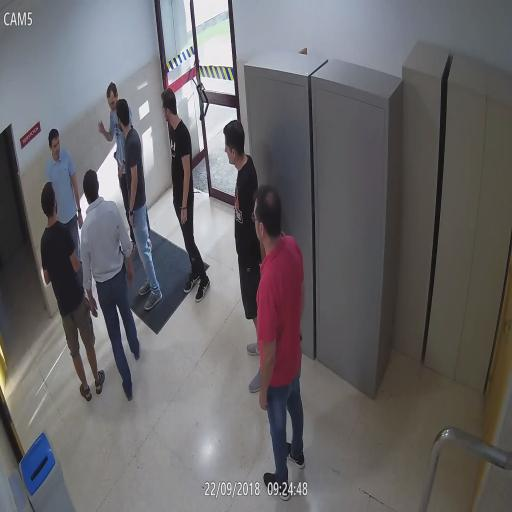Handgun: (119, 245, 128, 277), (111, 147, 117, 159)
